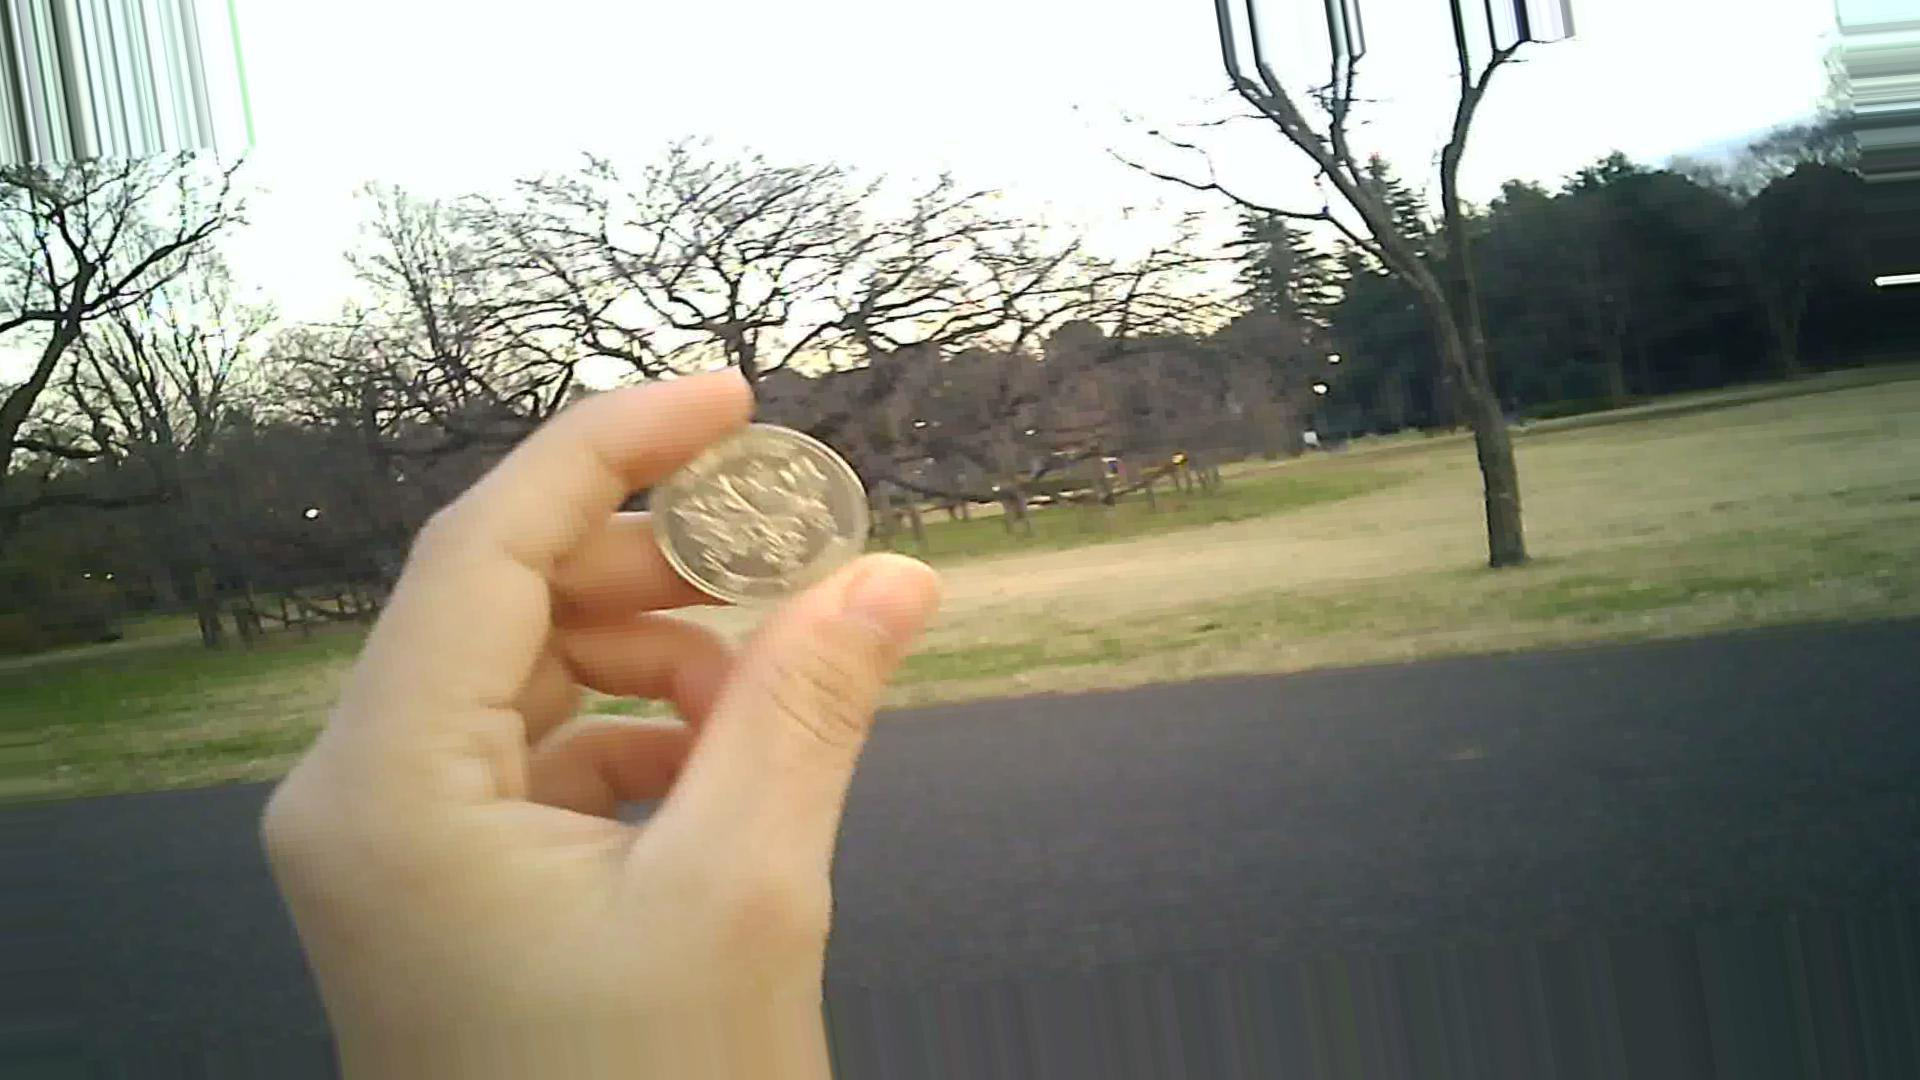500 Yen: (634, 425, 870, 611)
